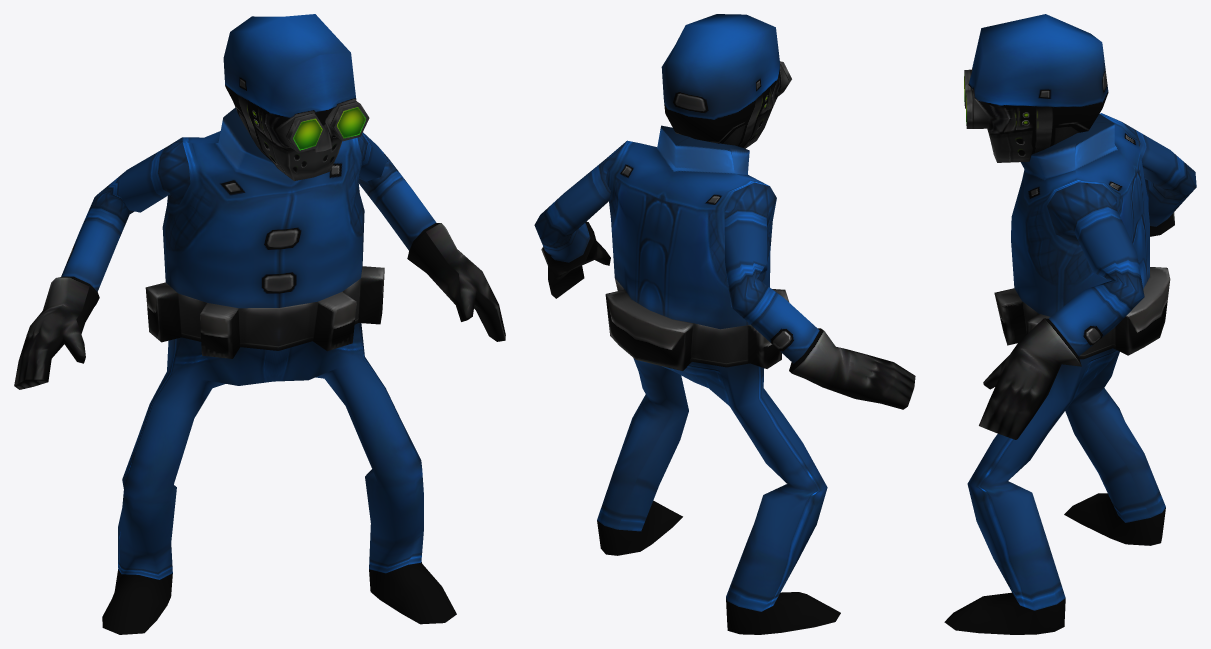
The model's file is ThiefProxy.fbx.
The picture shows the model from 3 angles, left to right: view 1: azimuth 30°, elevation 25°; view 2: azimuth 150°, elevation 25°; view 3: azimuth 270°, elevation 25°; orthographic projection. The views are drawn at different scales.
Parts seen in each view (by area): view 1: ThiefProxy; view 2: ThiefProxy; view 3: ThiefProxy.
Part boxes in pixels (x1,y1,x2,y2): ThiefProxy: (14,14,505,634); ThiefProxy: (534,14,915,634); ThiefProxy: (944,14,1196,634).
Bounding box in the file's own units: 1.51 × 1.98 × 0.8171.
Materials: 1 (1 with a texture image).
